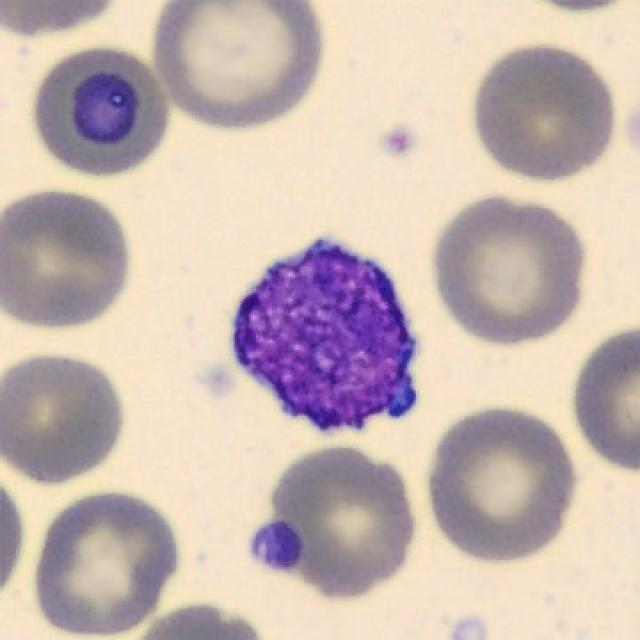Linfocito: (231, 240, 416, 432)
